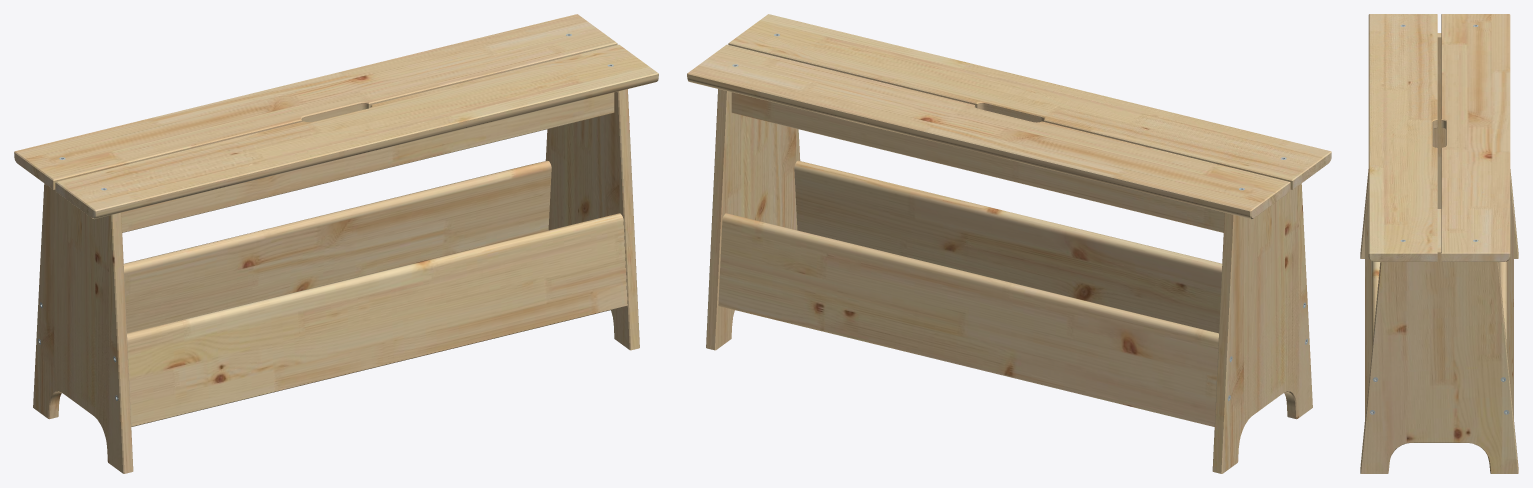
Rendered from perjohan_awka_ze_schowkiem_60485339.glb.
3 views of the same model, side by side, from view 1: azimuth 30°, elevation 25°; view 2: azimuth 150°, elevation 25°; view 3: azimuth 270°, elevation 25° (orthographic). The views are drawn at different scales.
Visible parts, largest first — view 1: perjohan_awka_ze_schowkiem_60485339; view 2: perjohan_awka_ze_schowkiem_60485339; view 3: perjohan_awka_ze_schowkiem_60485339.
Boxes of the visible parts, x1=… form: perjohan_awka_ze_schowkiem_60485339: x1=14, y1=14, x2=658, y2=473; perjohan_awka_ze_schowkiem_60485339: x1=687, y1=14, x2=1331, y2=473; perjohan_awka_ze_schowkiem_60485339: x1=1360, y1=14, x2=1518, y2=473.
Size of the model in its own units: 1 by 0.45 by 0.28.
1 material, 1 textured.
